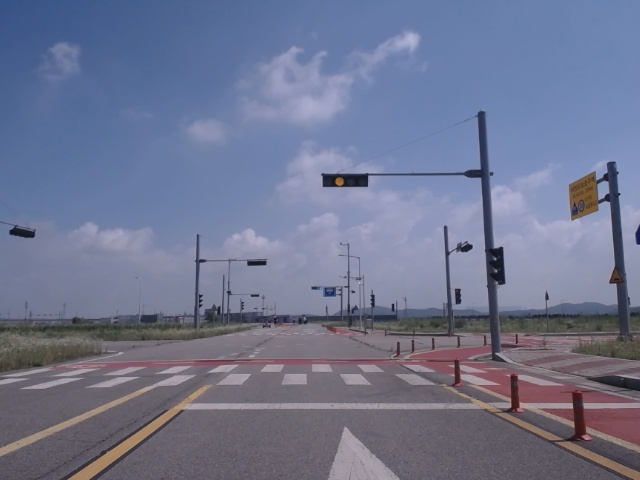orange_4: (323, 174, 368, 188)
